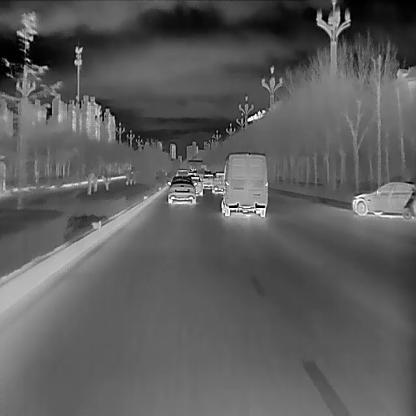car: (221, 153, 267, 216), (351, 182, 415, 219), (165, 176, 196, 205), (187, 174, 203, 197), (212, 171, 224, 193), (202, 172, 212, 190)
